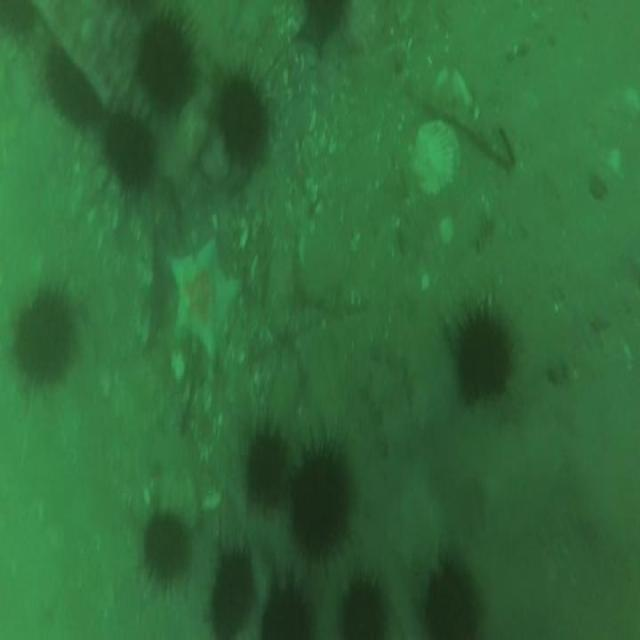echinus: (5, 272, 91, 403), (443, 291, 518, 420), (288, 427, 356, 567), (207, 49, 277, 175), (124, 8, 199, 118), (128, 488, 196, 606), (414, 537, 490, 640), (238, 408, 292, 524), (103, 100, 164, 198), (44, 42, 106, 138), (201, 534, 255, 640), (259, 556, 319, 640), (331, 564, 396, 639)
scallop: (412, 104, 463, 207)
starfish: (168, 242, 244, 362), (293, 3, 336, 63)
